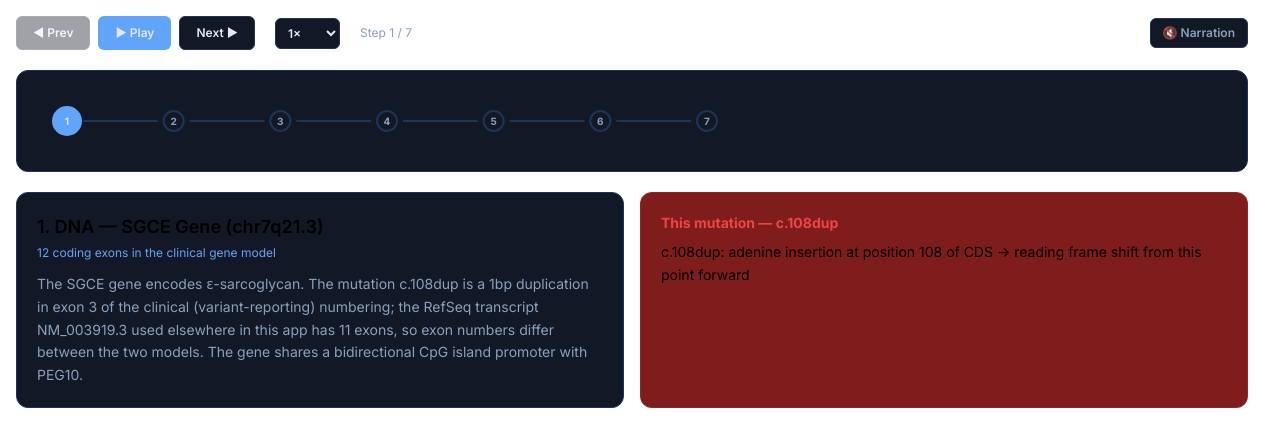
Test: CentralDogma › Next button advances to step 2
What coordinates should you click on to do the following:
click the button "Next ▶"
I would click on:
 (217, 33)
Its box is [179,16,255,50].
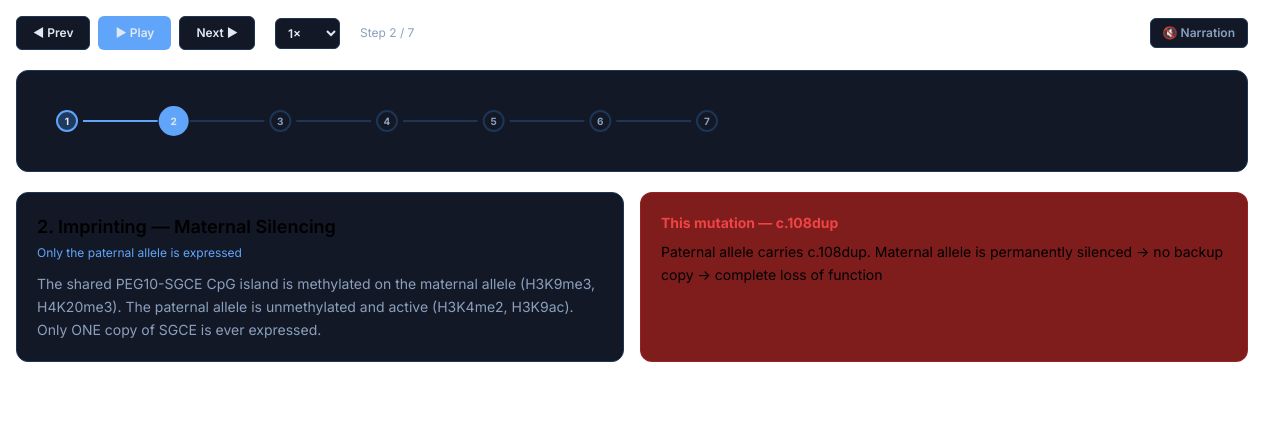
Result: the heading "2. Imprinting — Maternal Silencing" is shown at [37,216,336,237]
Result: the text "Step 2 / 7" is shown at [360,25,414,41]
